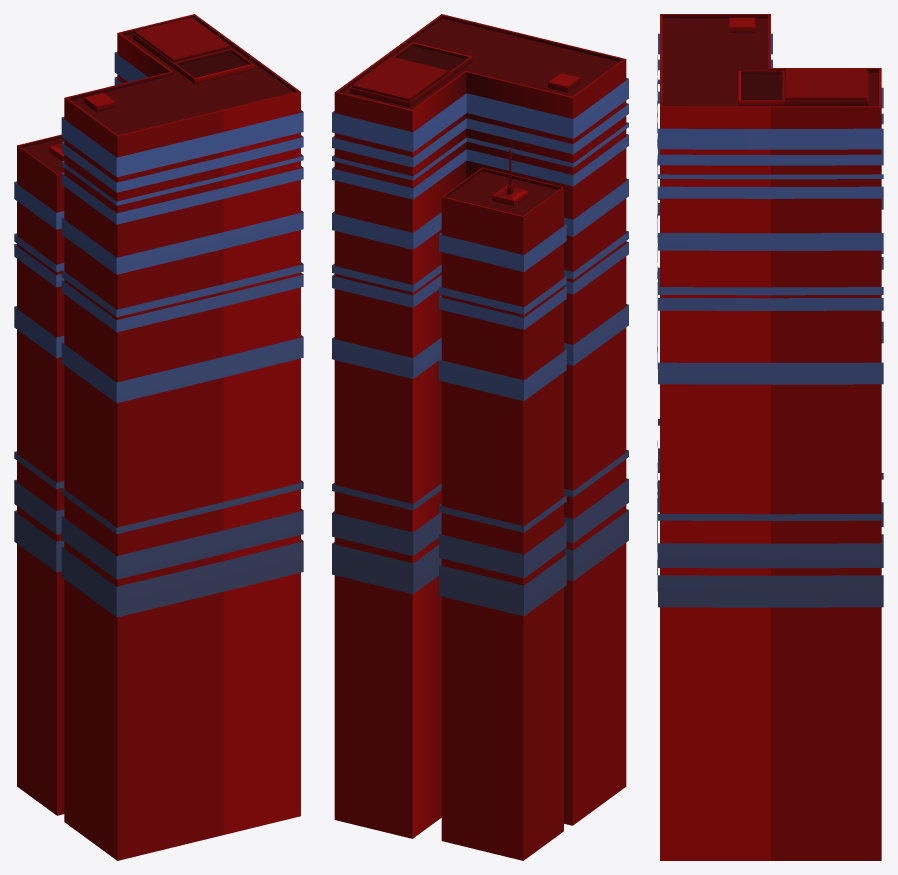
The model's file is RC_ComBuilding6.fbx.
3 renders of one model, left to right at view 1: azimuth 30°, elevation 25°; view 2: azimuth 150°, elevation 25°; view 3: azimuth 270°, elevation 25°, orthographic. The views are drawn at different scales.
Visible parts, largest first — view 1: base.042, windowRefl.025; view 2: base.042, windowRefl.025; view 3: base.042, windowRefl.025.
Part boxes in pixels (x1,y1,x2,y2): base.042: (17, 14, 300, 860); windowRefl.025: (14, 52, 303, 617); base.042: (334, 14, 626, 860); windowRefl.025: (332, 78, 628, 616); base.042: (660, 14, 881, 860); windowRefl.025: (657, 33, 883, 607).
Size of the model in its own units: 2144 by 7955 by 2152.
